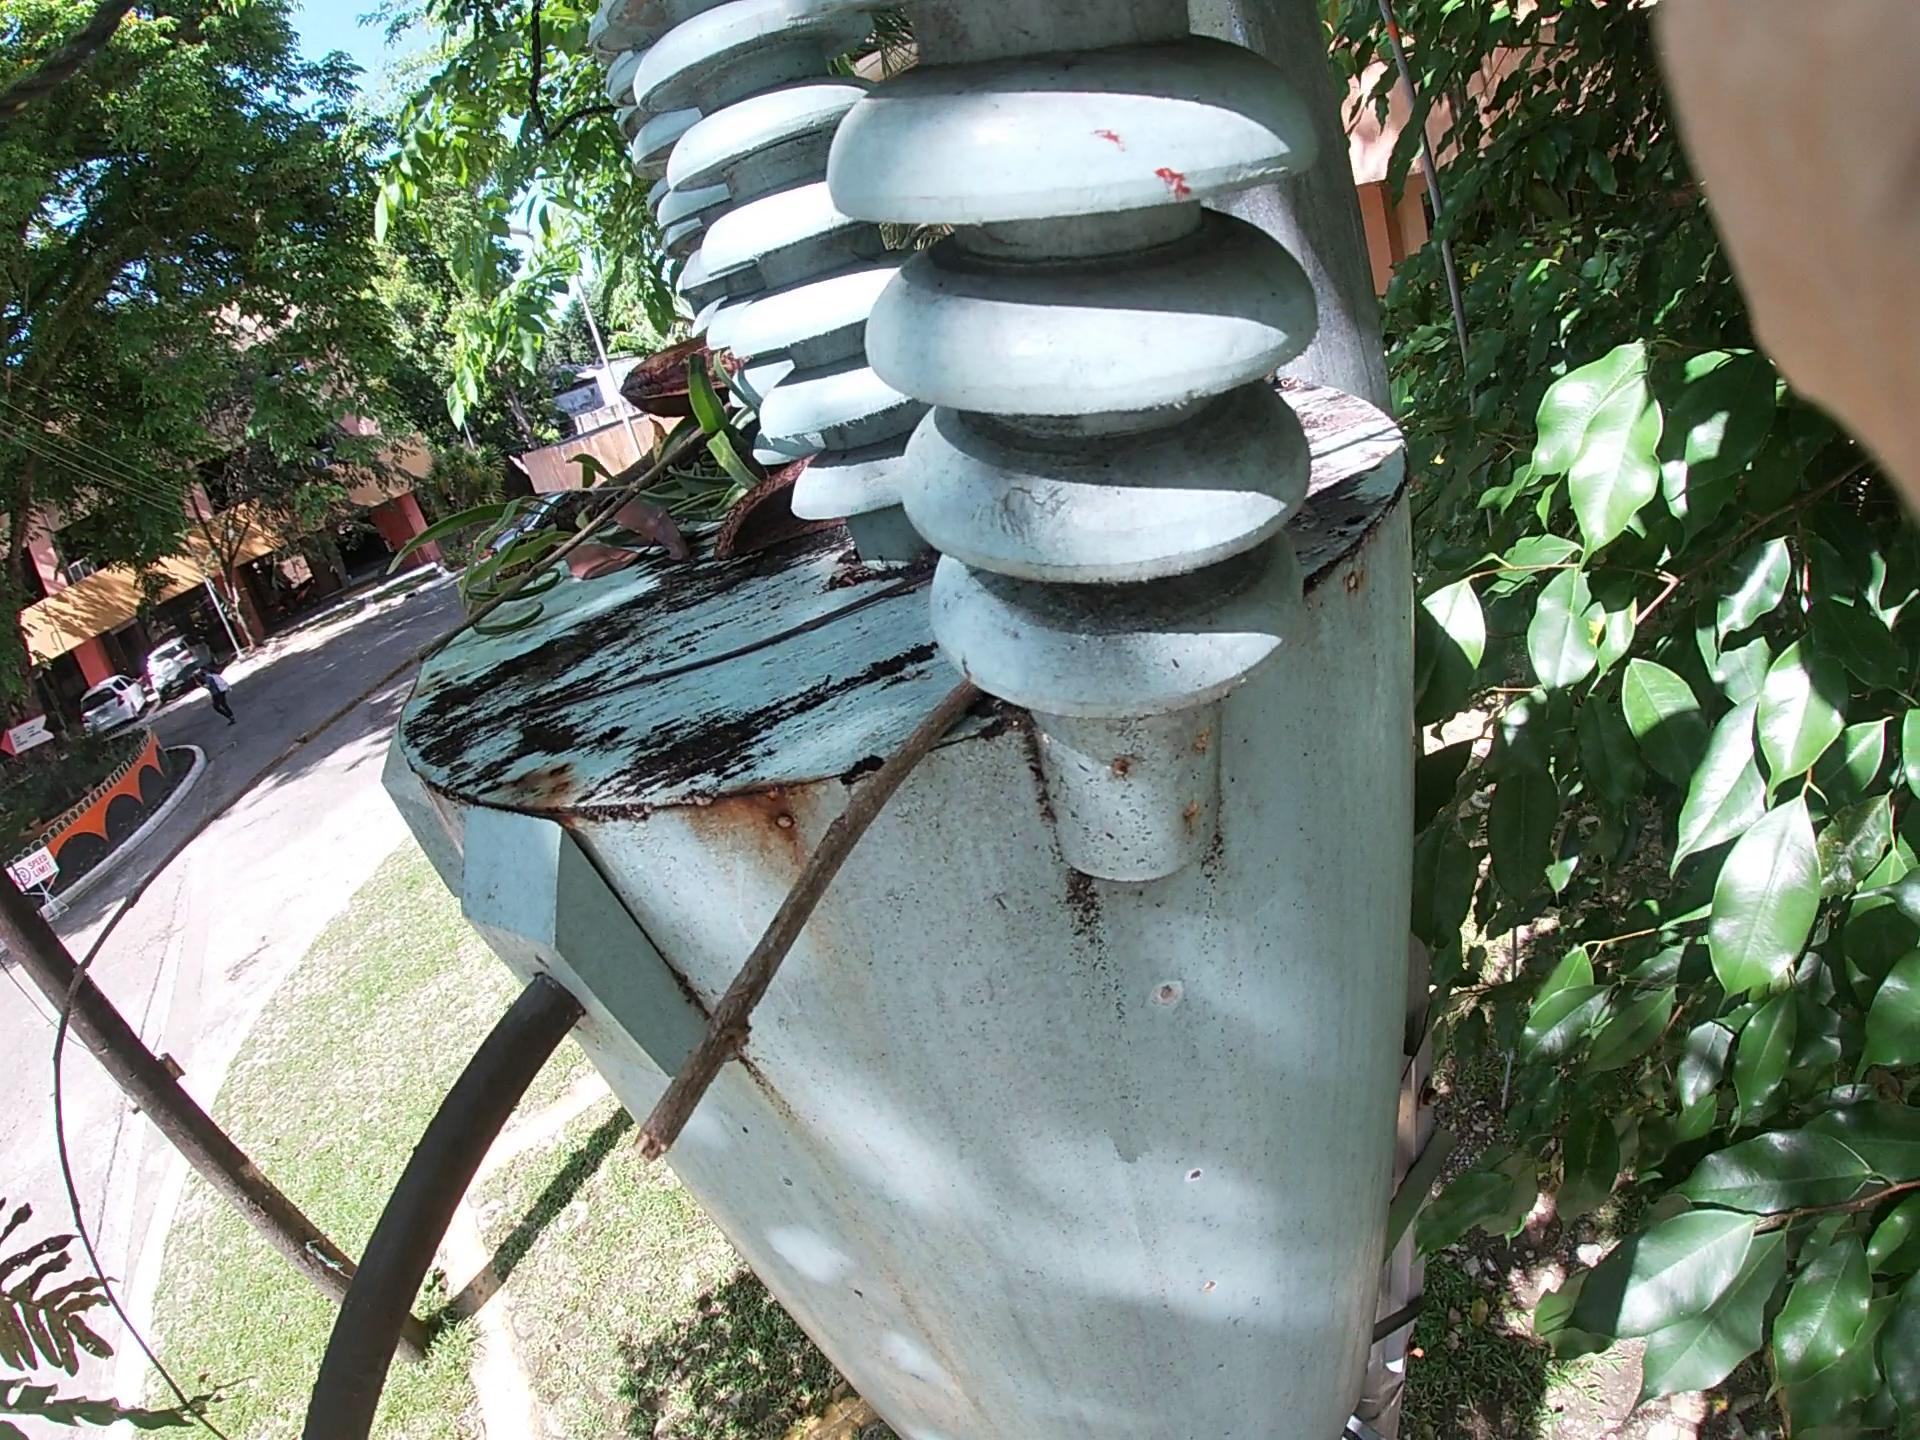branch with leaves: (485, 313, 839, 622)
leaf: (523, 479, 697, 616), (585, 464, 688, 631)
mahogany fruit: (574, 313, 857, 498), (692, 436, 865, 575)
tree branch: (585, 588, 1342, 1193), (2, 461, 679, 1128)
